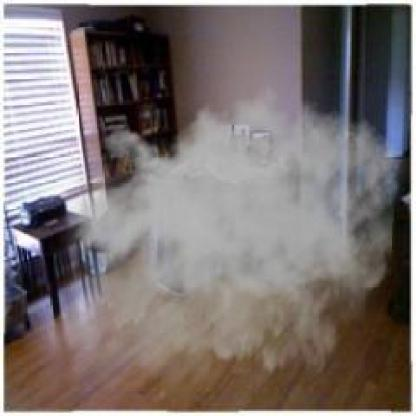Smoke: (41, 75, 401, 414)
